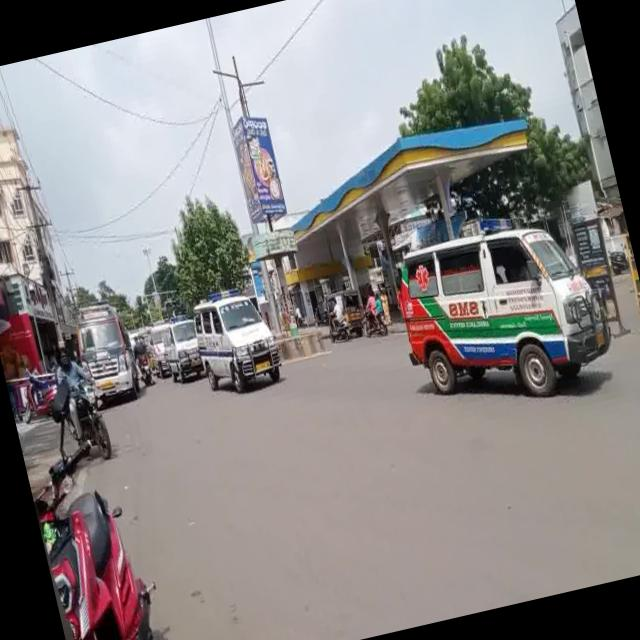ambulance: (185, 270, 288, 408), (66, 304, 144, 412), (163, 297, 204, 387), (143, 317, 174, 394)
